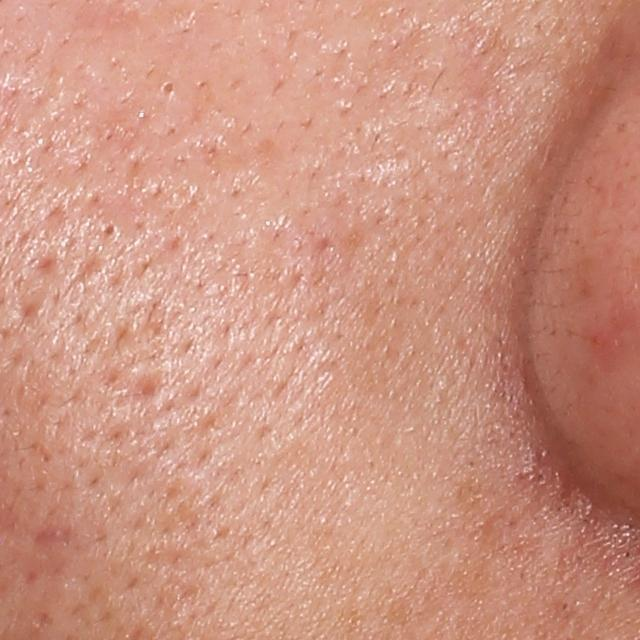atrophic_scar: (33, 522, 82, 551)
comedo: (96, 216, 122, 243)
